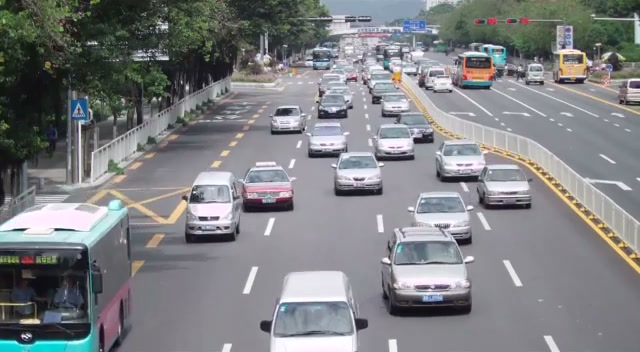bus: (0, 199, 134, 352), (455, 52, 496, 89)
car: (260, 270, 368, 352), (379, 226, 475, 316), (184, 170, 244, 243), (407, 191, 474, 245), (476, 162, 533, 209), (240, 165, 296, 212), (332, 150, 384, 196), (434, 140, 487, 182), (374, 123, 415, 161), (307, 121, 349, 158), (397, 112, 434, 143), (270, 105, 307, 135), (380, 93, 411, 118), (318, 94, 348, 119), (617, 79, 640, 105)
pedestrian: (52, 272, 84, 311), (11, 276, 37, 305), (46, 123, 58, 157)
truck: (553, 49, 589, 84), (525, 63, 545, 86)
